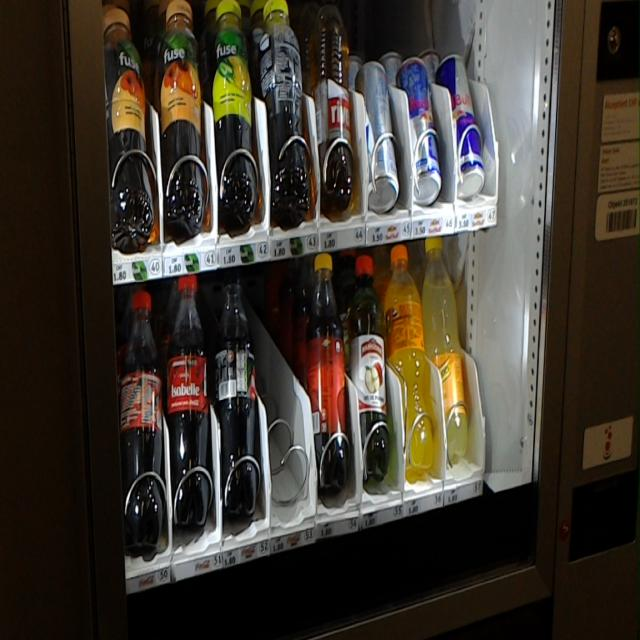coke__flasche_50__54491472: (118, 289, 165, 545), (166, 276, 212, 523)
coke_zero_flasche_50__5449000131836: (214, 268, 261, 511)
fanta___50__40822938: (386, 240, 430, 470)
fuse_lemon__50__5449000235947: (260, 0, 310, 224), (210, 0, 256, 225)
fuse_peach__50__5449000236623: (99, 8, 152, 243), (158, 0, 207, 233)
mezzomix___50__54490840: (304, 250, 350, 490)
ramseier_jusdepomme__50__7610057001078: (348, 254, 390, 479)
redbull___33__90162909: (396, 54, 441, 205), (439, 52, 484, 196), (357, 61, 400, 210)
rivella_rot__50__7610097111072: (311, 0, 353, 208)
schweppes_citrus__50__: (425, 239, 468, 465)
